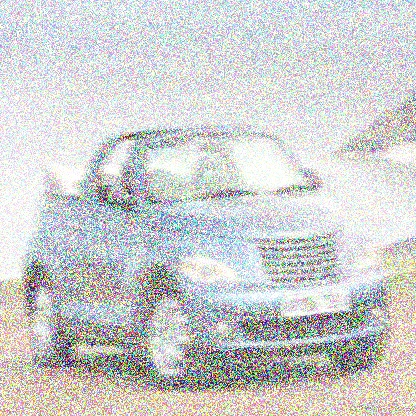Vehicle: (17, 119, 396, 395)
